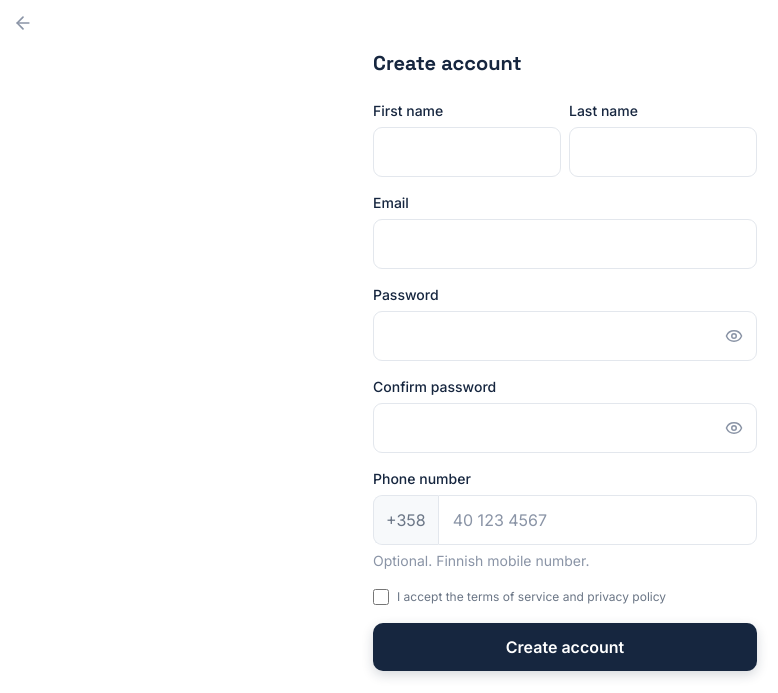
Scenario: RegisterPage password strength hint › shows the too-short hint for a short password
This screenshot has width=778, height=693.
Type "short" into the password field labelled "Password" at (565, 336), box left=373, top=311, right=757, bottom=361
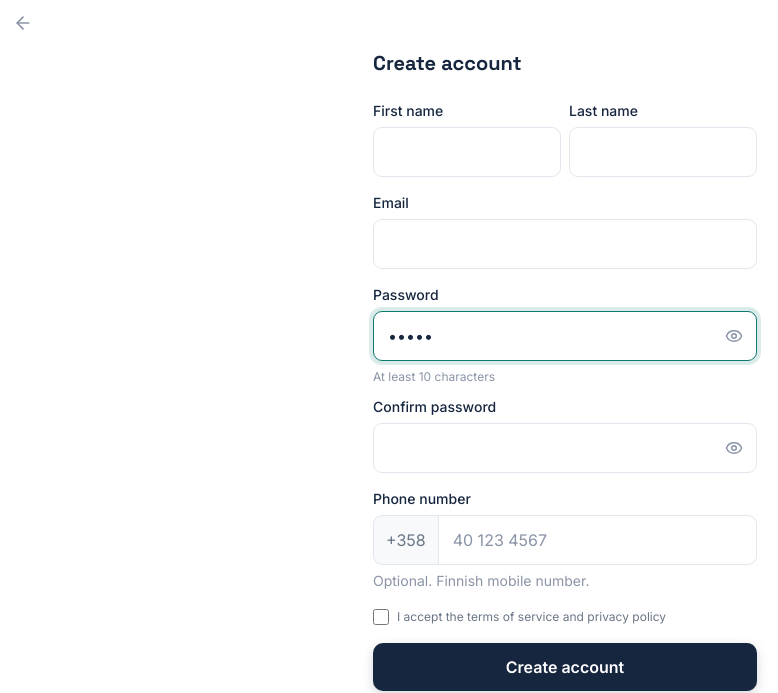
expect the text "At least 10 characters" is shown: met, box left=373, top=369, right=495, bottom=384
